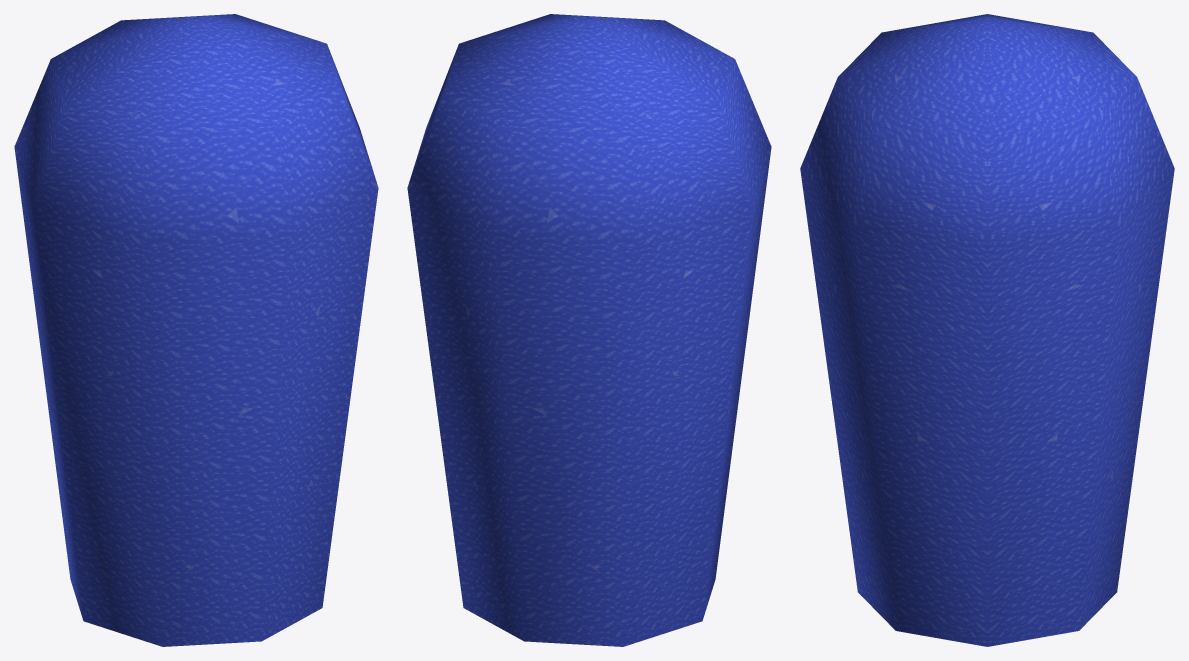
Rendered from fff_drink_slush_blue.FBX.
3 views of the same model, side by side, from view 1: azimuth 30°, elevation 25°; view 2: azimuth 150°, elevation 25°; view 3: azimuth 270°, elevation 25° (orthographic).
Parts seen in each view (by area): view 1: fff_drink_slush_blue; view 2: fff_drink_slush_blue; view 3: fff_drink_slush_blue.
Boxes of the visible parts, bbox=[...] form: fff_drink_slush_blue: bbox=[14, 14, 378, 646]; fff_drink_slush_blue: bbox=[407, 14, 771, 646]; fff_drink_slush_blue: bbox=[800, 14, 1174, 646].
Bounding box in the file's own units: 4.69 × 7.82 × 4.69.
